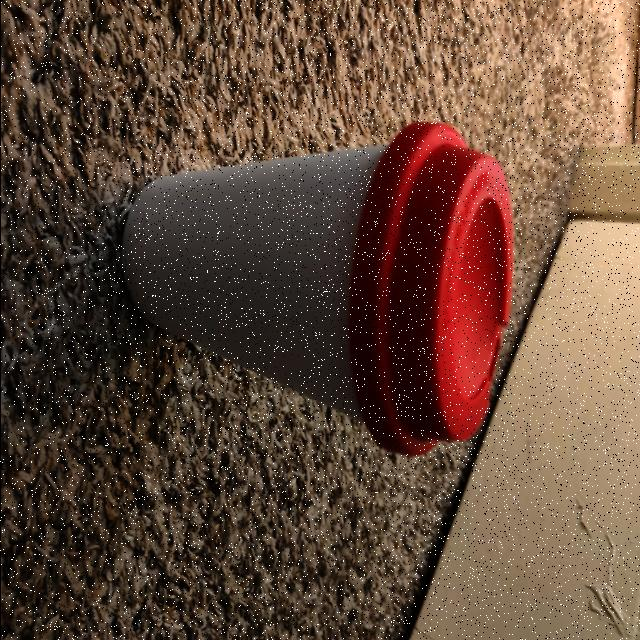mug: (115, 118, 511, 454)
